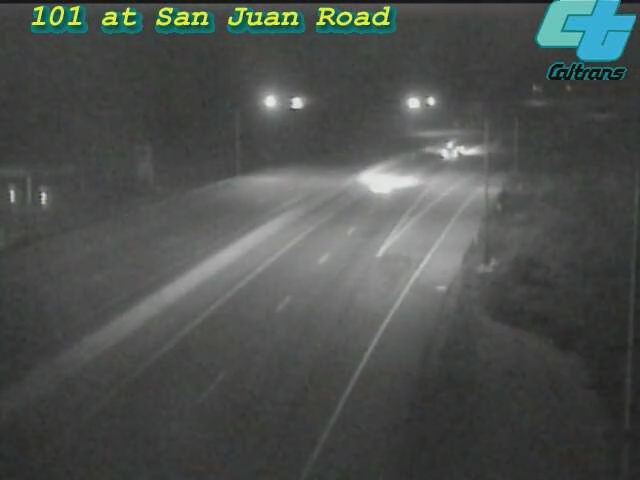vehicle: (344, 140, 424, 220), (431, 123, 481, 173)
